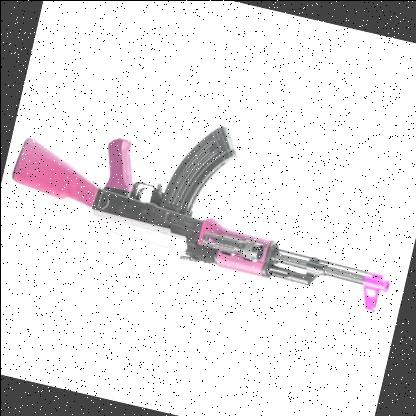rifle: (0, 89, 412, 325)
